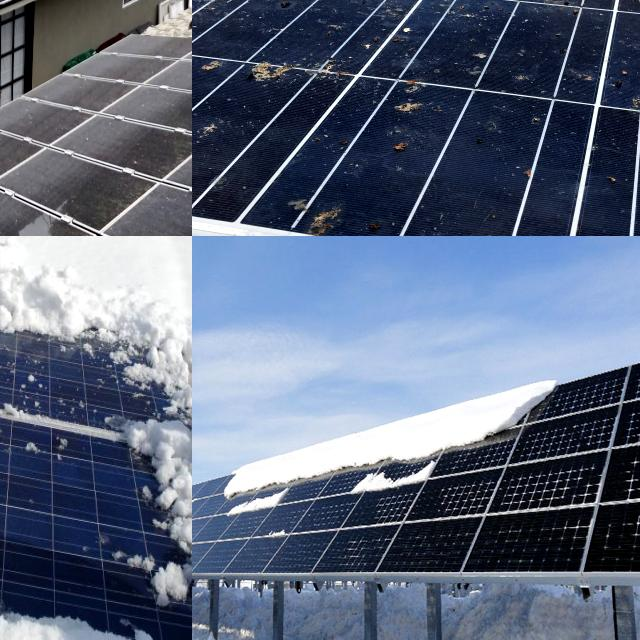bird: (202, 42, 338, 132), (264, 165, 395, 236), (384, 74, 452, 170), (260, 0, 368, 26), (259, 0, 359, 19), (454, 0, 524, 17)
dust: (141, 59, 192, 207), (0, 143, 84, 223)
panel: (0, 267, 117, 380), (112, 404, 192, 560), (0, 236, 61, 387), (142, 290, 192, 437), (0, 510, 58, 631), (0, 252, 81, 338), (143, 498, 192, 640), (0, 595, 114, 640), (0, 403, 47, 484), (222, 469, 298, 514), (426, 407, 494, 457), (0, 236, 104, 266), (0, 570, 44, 640), (491, 381, 556, 427), (352, 462, 448, 490), (289, 461, 337, 485), (256, 521, 298, 547)
